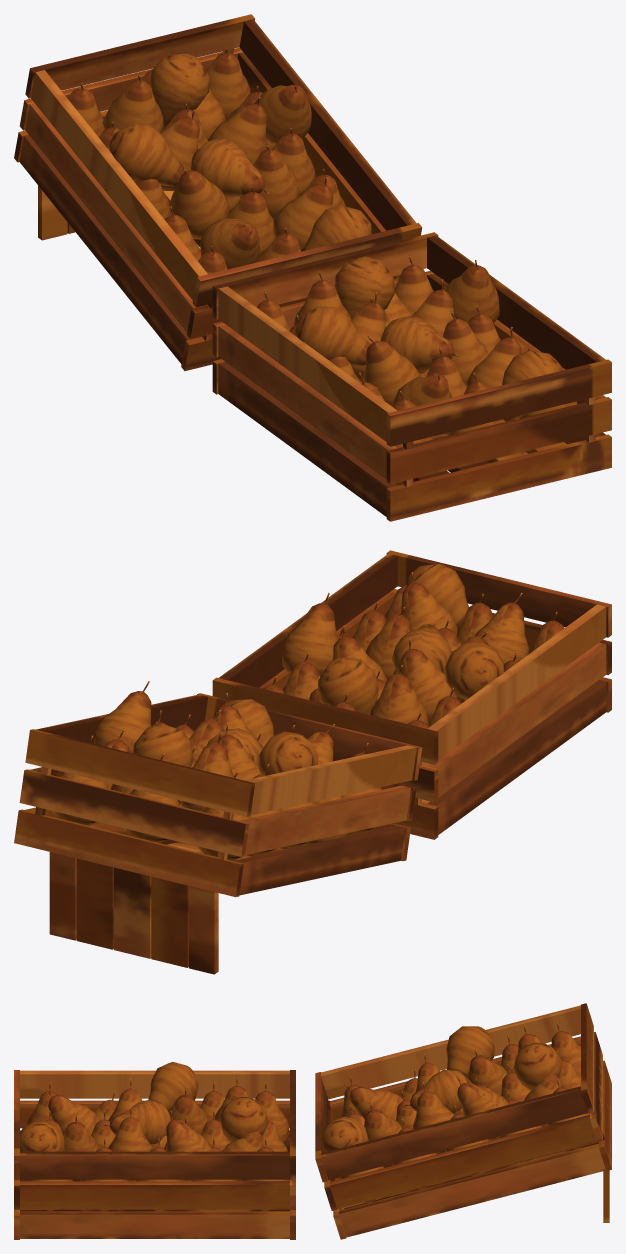
Rendered from fruit crate_3.fbx.
3 renders of one model, top to bottom at view 1: azimuth 30°, elevation 25°; view 2: azimuth 150°, elevation 25°; view 3: azimuth 270°, elevation 25°, orthographic. The views are drawn at different scales.
Visible parts, largest first — view 1: Cube.005, Cube.018, Plane.633, Plane.632, Plane.631, Plane.088, Plane.625, Plane.087, Plane.086, Plane.635, Plane.626, Plane.090 (+25 smaller); view 2: Cube.018, Cube.005, Cube.007, Plane.090, Plane.087, Plane.088, Plane.635, Plane.081, Plane.089, Plane.079, Plane.633, Plane.078 (+17 smaller); view 3: Cube.018, Cube.005, Plane.633, Plane.087, Plane.088, Plane.632, Plane.086, Plane.631, Plane.089, Plane.081, Plane.626, Plane.634 (+26 smaller).
Part boxes in pixels (x1=…): Cube.005: x1=212, y1=232, x2=611, y2=521; Cube.018: x1=14, y1=14, x2=422, y2=370; Plane.633: x1=109, y1=123, x2=184, y2=186; Plane.632: x1=149, y1=53, x2=209, y2=126; Plane.631: x1=191, y1=139, x2=269, y2=198; Plane.088: x1=294, y1=306, x2=370, y2=365; Plane.625: x1=169, y1=168, x2=229, y2=239; Plane.087: x1=335, y1=256, x2=395, y2=319; Plane.086: x1=380, y1=315, x2=458, y2=373; Plane.635: x1=254, y1=84, x2=311, y2=144; Plane.626: x1=200, y1=218, x2=259, y2=269; Plane.090: x1=445, y1=260, x2=499, y2=323; Cube.018: x1=14, y1=693, x2=422, y2=897; Cube.005: x1=212, y1=550, x2=611, y2=839; Cube.007: x1=49, y1=852, x2=218, y2=974; Plane.090: x1=281, y1=593, x2=337, y2=676; Plane.087: x1=318, y1=657, x2=378, y2=714; Plane.088: x1=445, y1=642, x2=504, y2=700; Plane.635: x1=94, y1=681, x2=151, y2=753; Plane.081: x1=475, y1=592, x2=528, y2=665; Plane.089: x1=406, y1=564, x2=468, y2=630; Plane.079: x1=400, y1=638, x2=457, y2=722; Plane.633: x1=258, y1=731, x2=318, y2=775; Plane.078: x1=370, y1=664, x2=429, y2=726; Cube.018: x1=315, y1=1003, x2=611, y2=1239; Cube.005: x1=14, y1=1070, x2=295, y2=1239; Plane.633: x1=446, y1=1026, x2=494, y2=1076; Plane.087: x1=220, y1=1097, x2=268, y2=1142; Plane.088: x1=148, y1=1062, x2=198, y2=1110; Plane.632: x1=513, y1=1042, x2=562, y2=1090; Plane.086: x1=100, y1=1099, x2=171, y2=1144; Plane.631: x1=400, y1=1069, x2=471, y2=1113; Plane.089: x1=20, y1=1121, x2=64, y2=1151; Plane.081: x1=46, y1=1089, x2=99, y2=1135; Plane.626: x1=344, y1=1084, x2=403, y2=1120; Plane.634: x1=322, y1=1116, x2=368, y2=1152.
Size of the model in its own units: 26.86 by 22.68 by 78.99.
